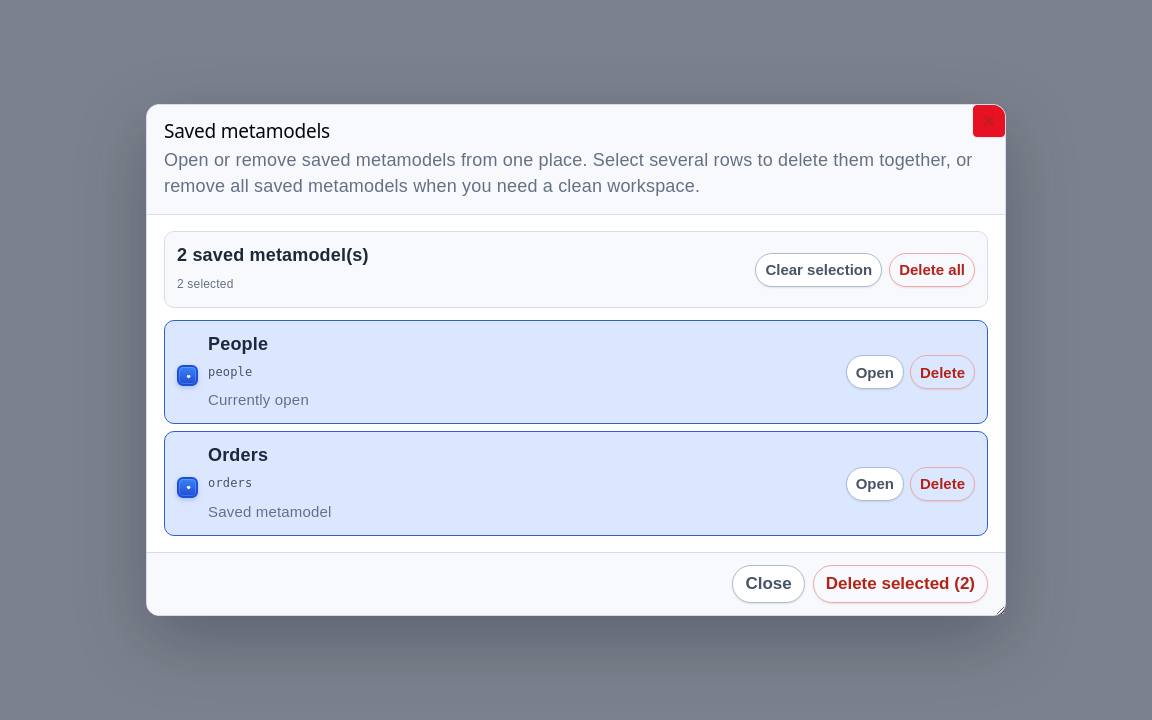
MetamodelLibraryDialog › keeps only failed items pending after a partial batch deletion
This screenshot has width=1152, height=720.
Click the button "Delete selected (2)" at point(900, 584), box [813,565,988,603]
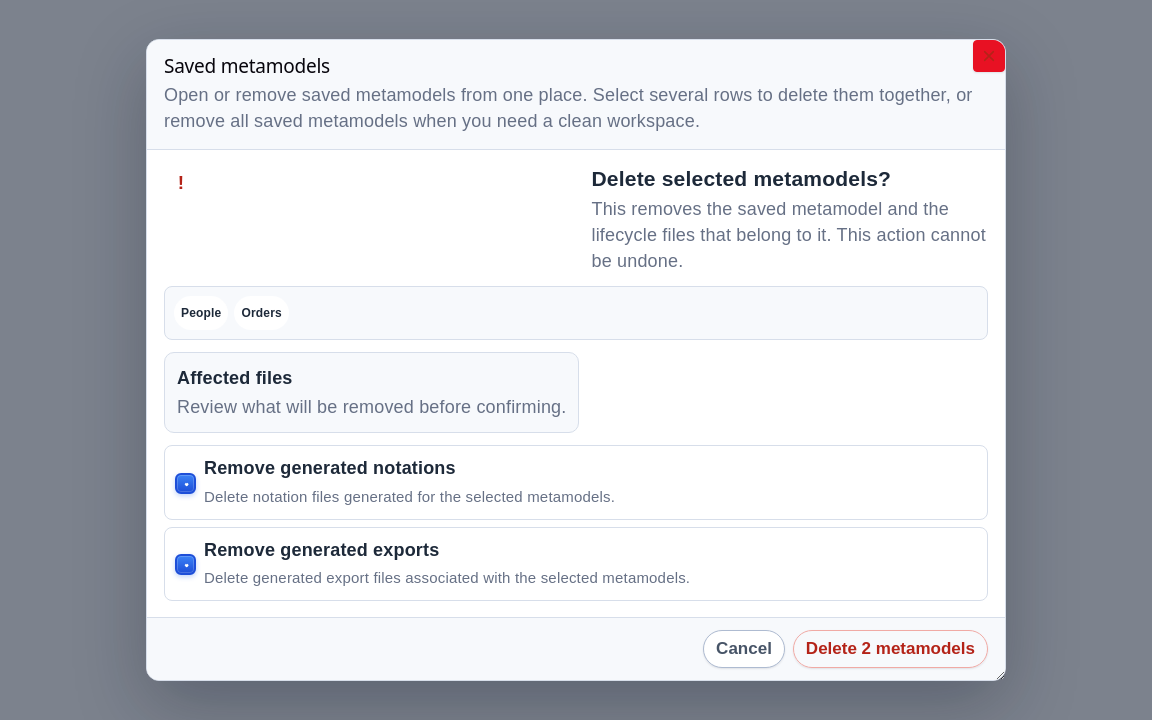
Click the button "Delete 2 metamodels" at point(890, 649), box [793,630,988,668]
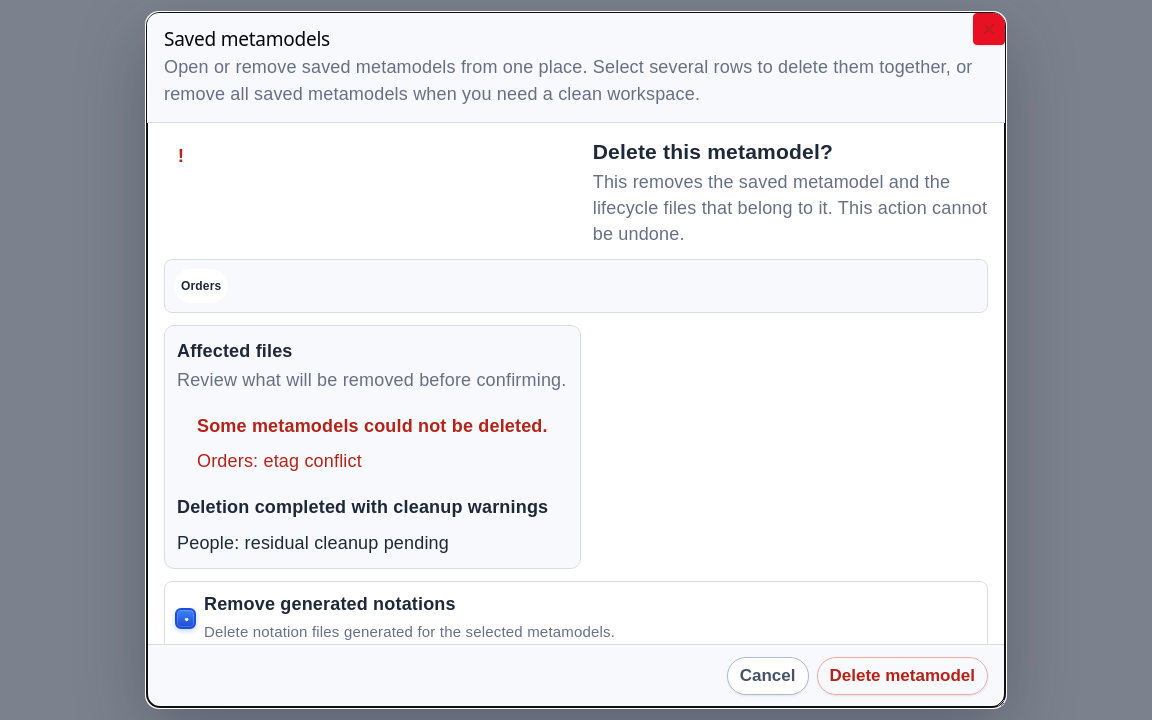
Now the button "Delete metamodel" is enabled, box [816,657,988,695]
Now the text "Orders: etag conflict" is shown, box [197,451,362,471]
Now the text "Deletion completed with cleanup warnings" is shown, box [177,494,568,521]
